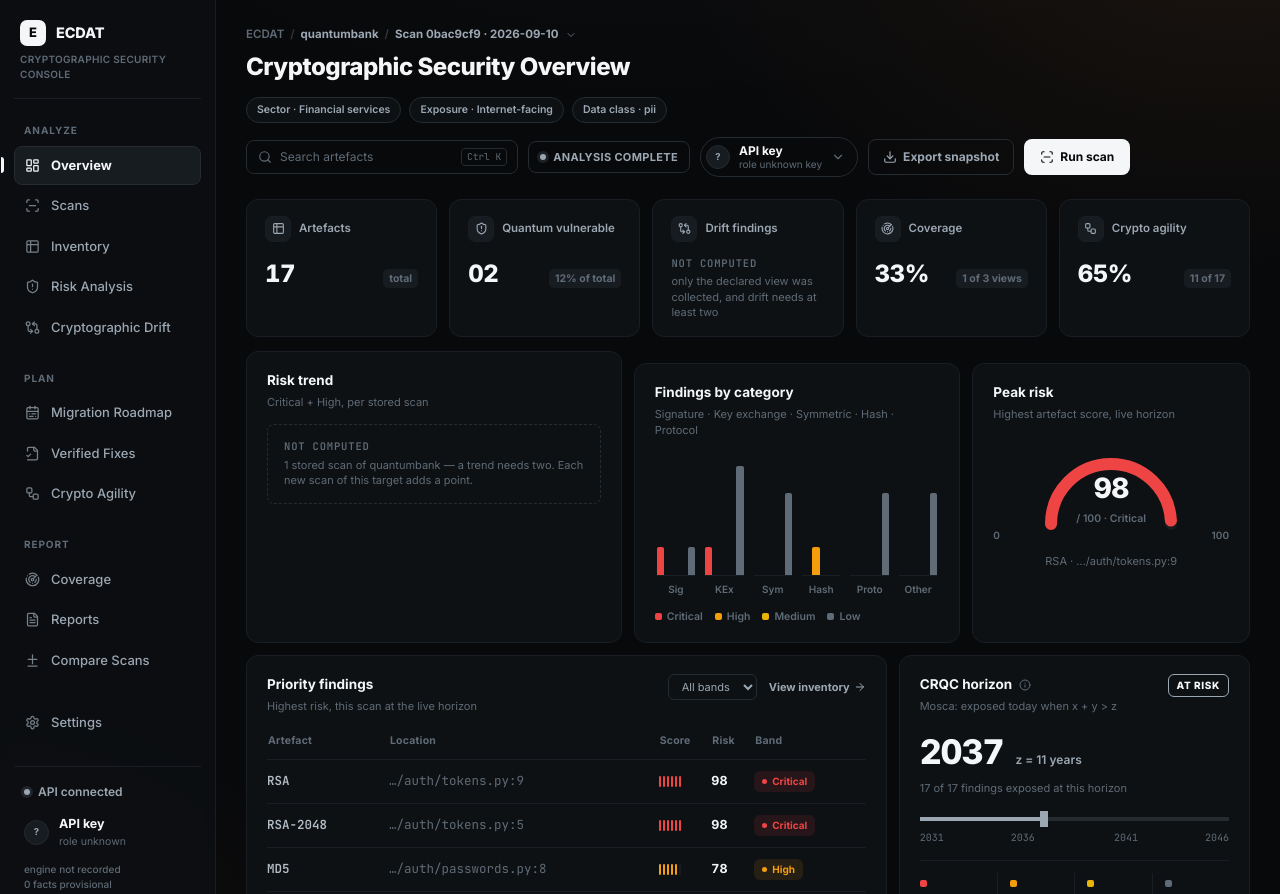
Test case: navigating the console › the top-bar search lands on a filtered Inventory
Expected: the heading "Cryptographic Security Overview" is shown, [246,49,667,85]
Expected: the element with test id "status" shows "complete", [553,150,678,164]
Type "MD5" into the search field named "Search artefacts". click: (366,157)
box: [280,148,453,166]
Then press Enter
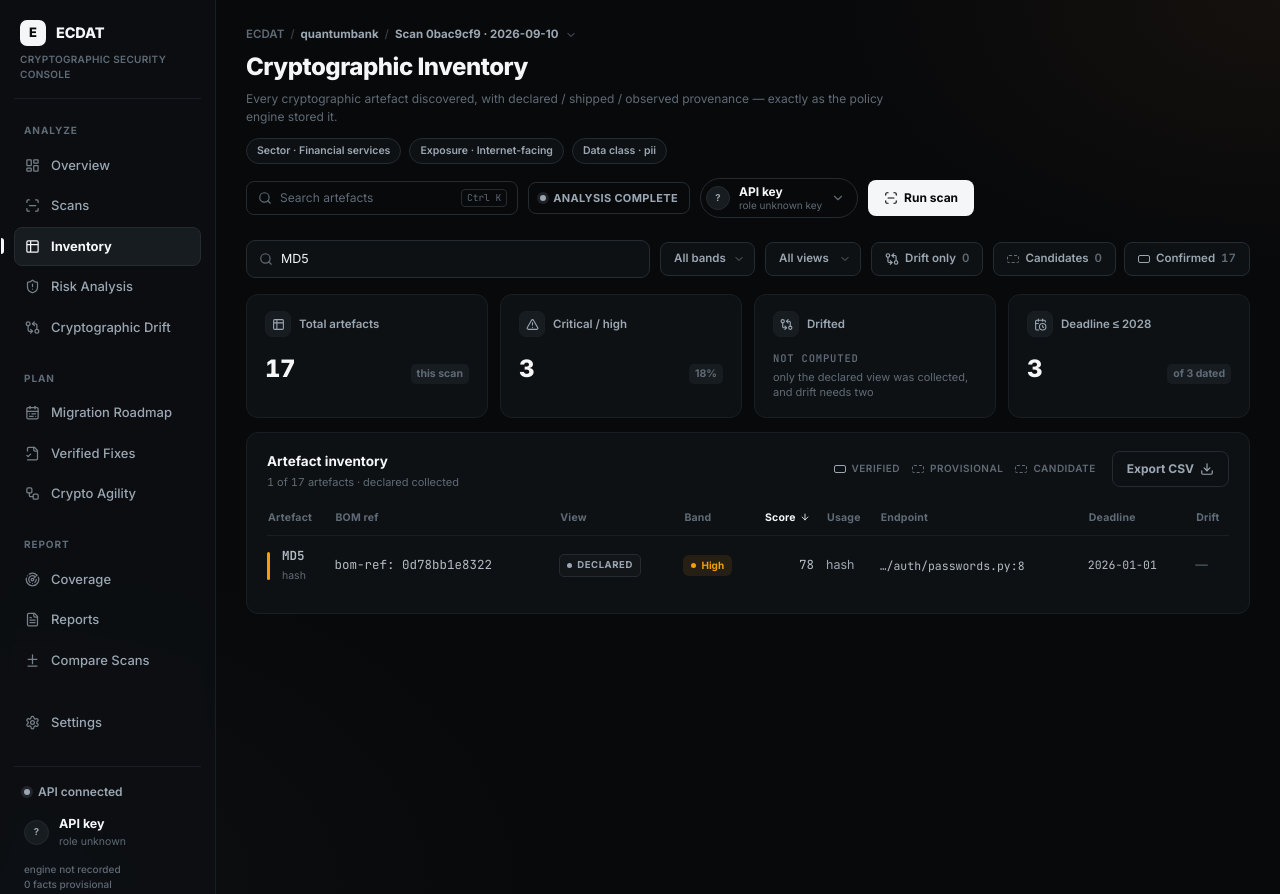
Expected: the heading "Cryptographic Inventory" is shown, [246,52,528,81]
Expected: the row that starts with "MD5" is shown, [282,547,304,564]
